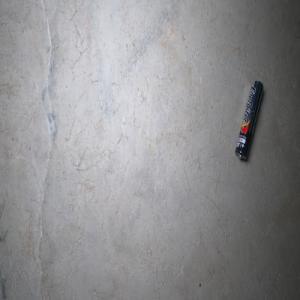Battery: (235, 80, 263, 161)
